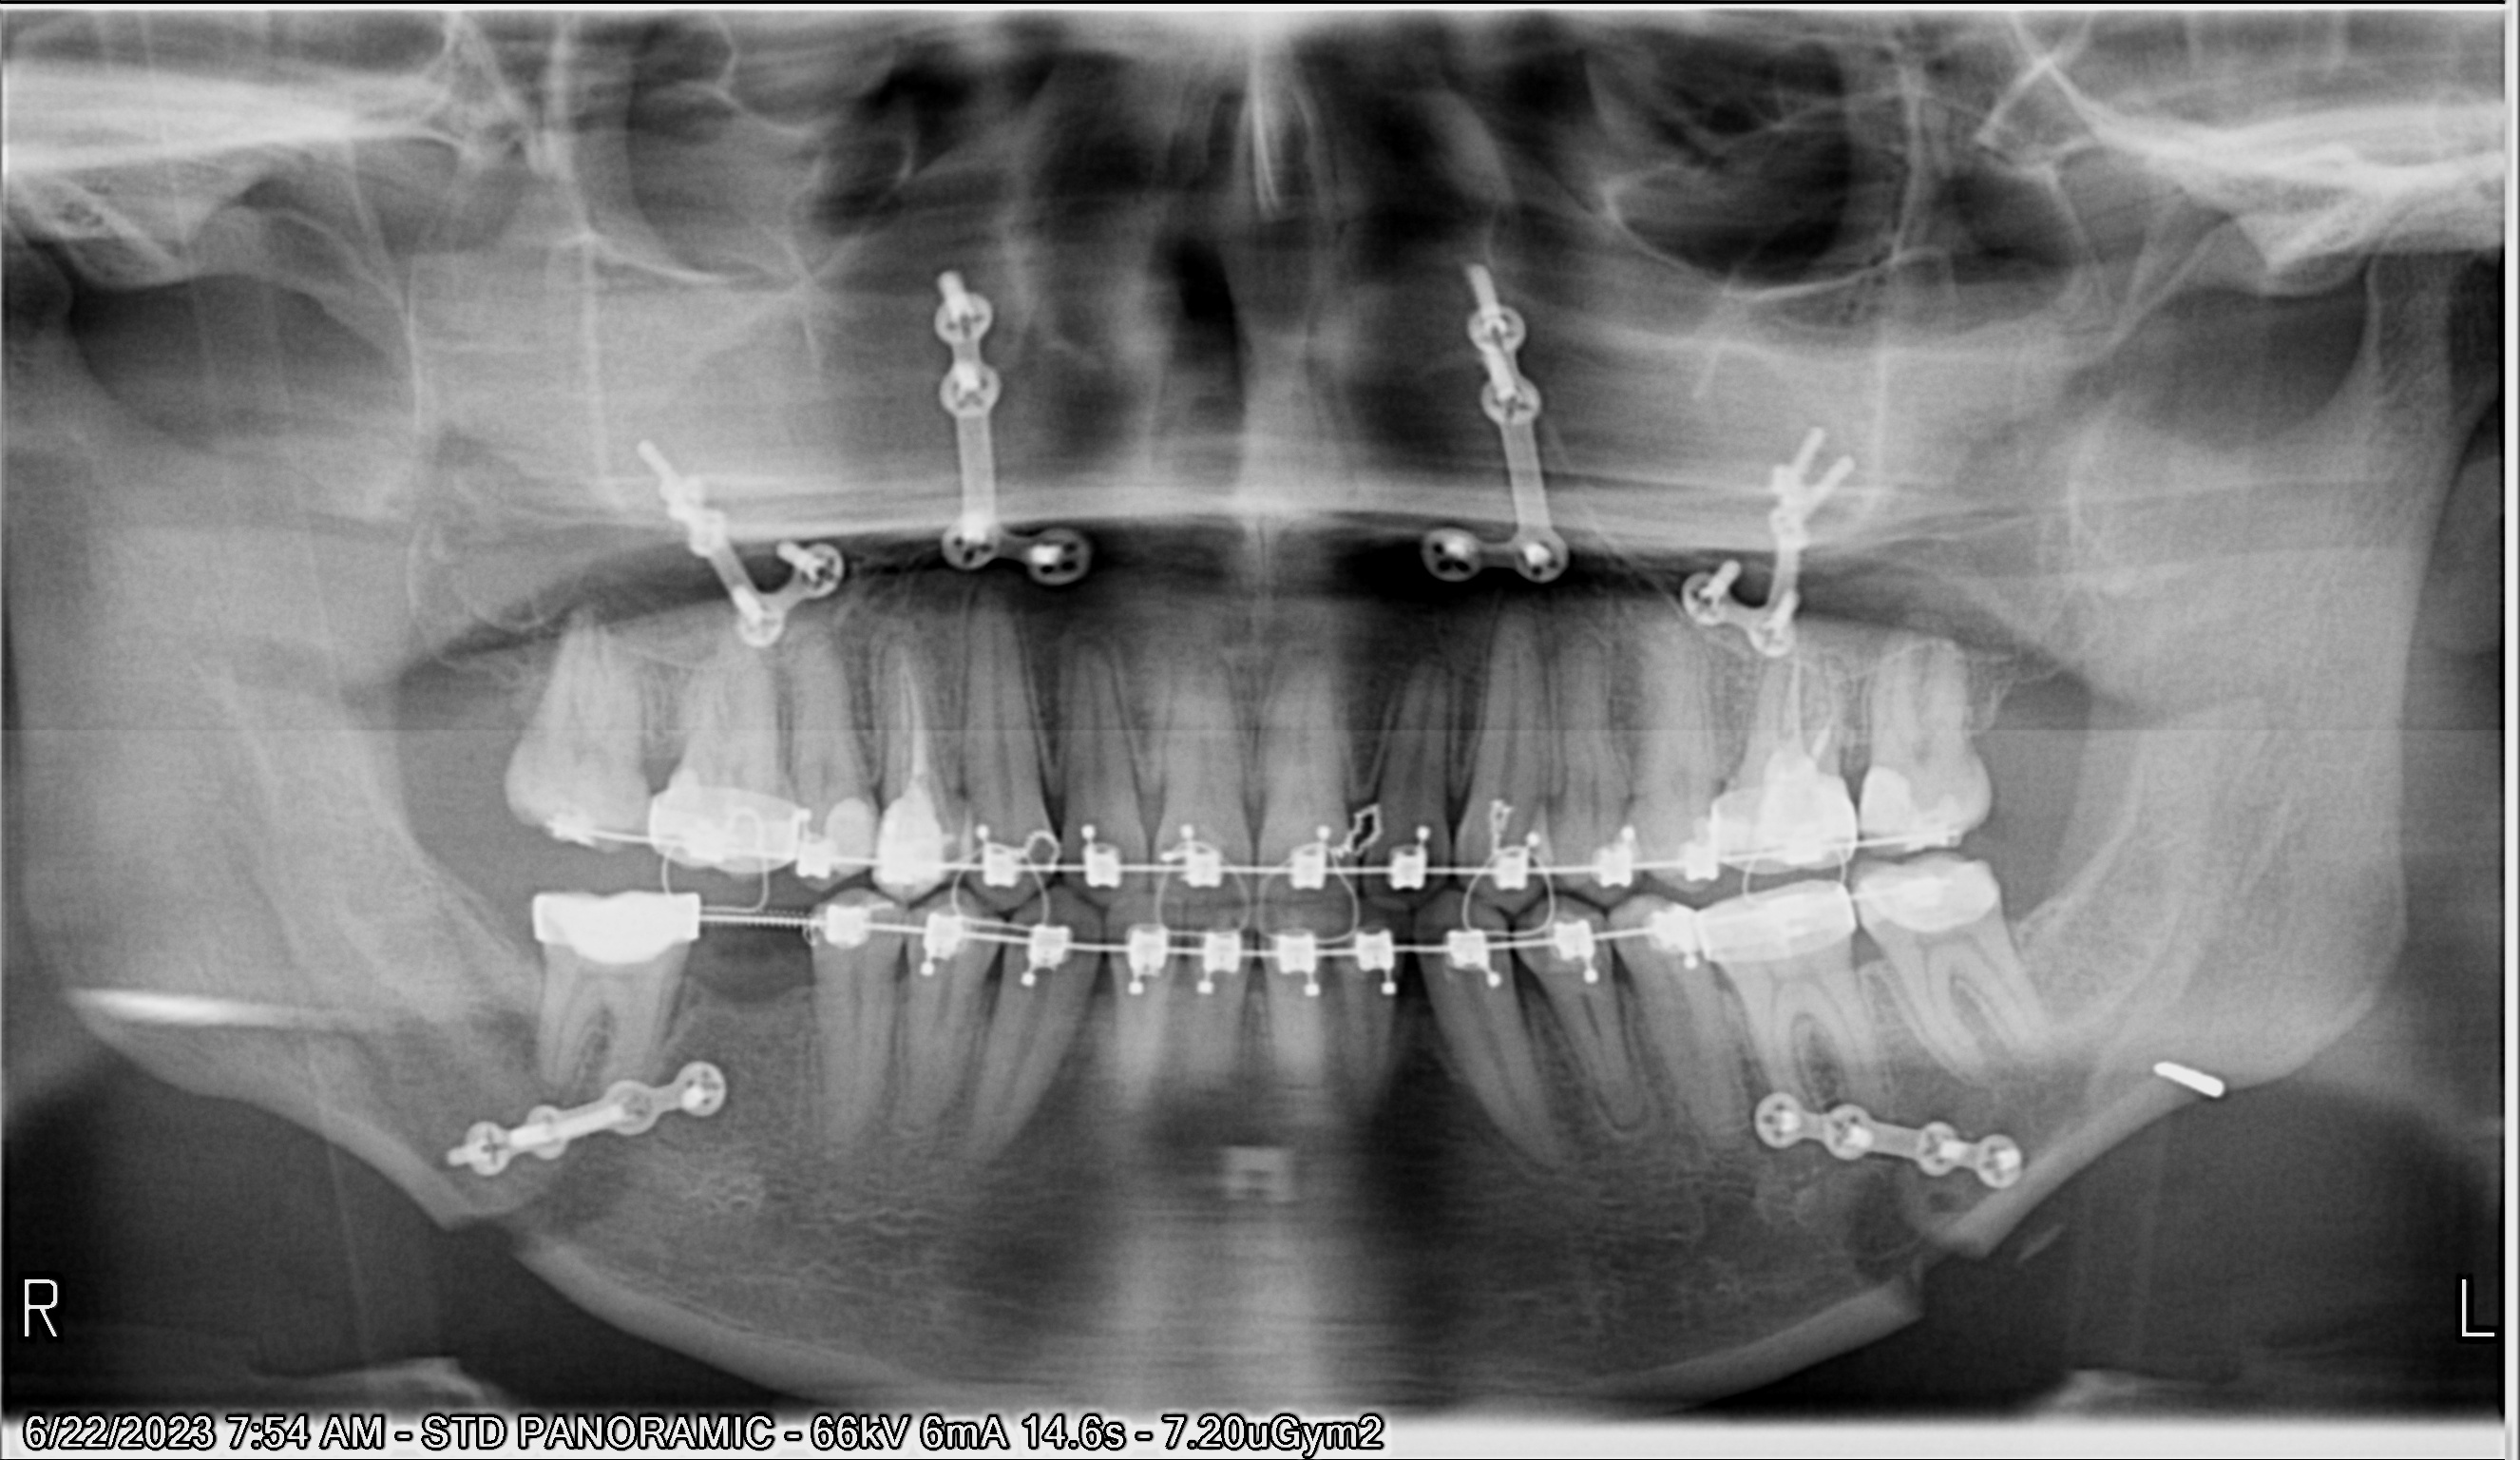APS: (516, 709, 2020, 879), (526, 871, 2049, 980), (1266, 1055, 1325, 1107), (1184, 1053, 1242, 1104)
END: (879, 647, 940, 798), (1773, 648, 1810, 777), (1801, 669, 1836, 772)
OBT: (1850, 754, 1975, 848), (1759, 765, 1857, 866), (884, 793, 952, 890), (827, 791, 861, 874)
SRD: (1381, 238, 1568, 610), (907, 268, 1096, 603), (611, 405, 842, 650), (1674, 386, 1865, 681), (1742, 1081, 2042, 1210), (410, 1055, 731, 1165), (2131, 1038, 2225, 1111)
